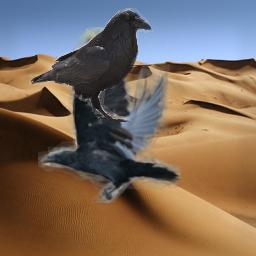Crow: (38, 27, 181, 203), (29, 8, 153, 122)
